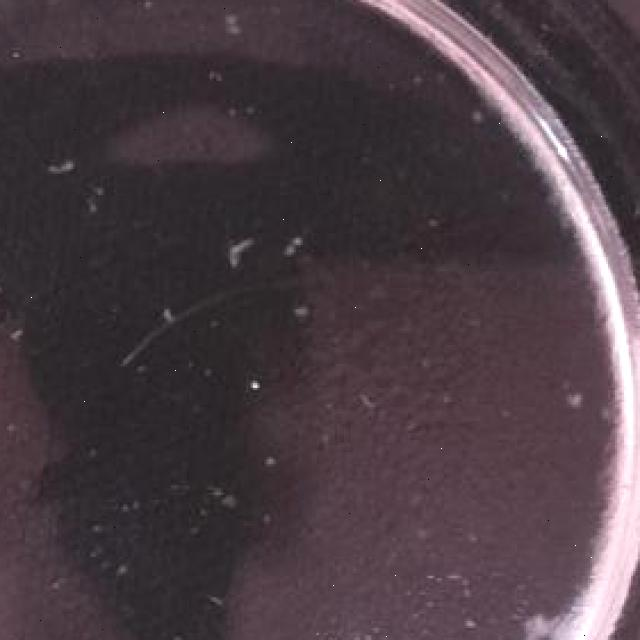Microplastic: (508, 585, 578, 640), (46, 138, 94, 193), (214, 2, 262, 52), (221, 228, 257, 292), (273, 226, 310, 264), (556, 374, 585, 418), (323, 621, 378, 640)
